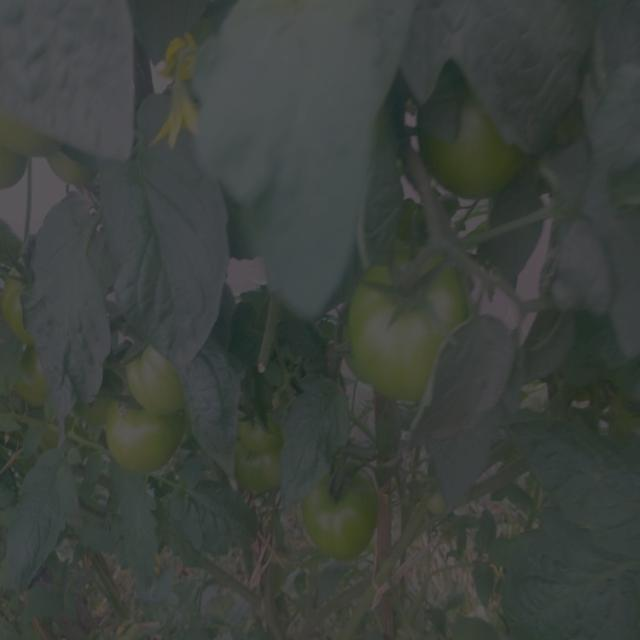tomato: (344, 249, 463, 384), (301, 447, 385, 563), (438, 97, 517, 199), (95, 398, 180, 476), (122, 340, 187, 413), (3, 123, 58, 185), (232, 444, 283, 504), (1, 256, 30, 336), (235, 401, 279, 450)
